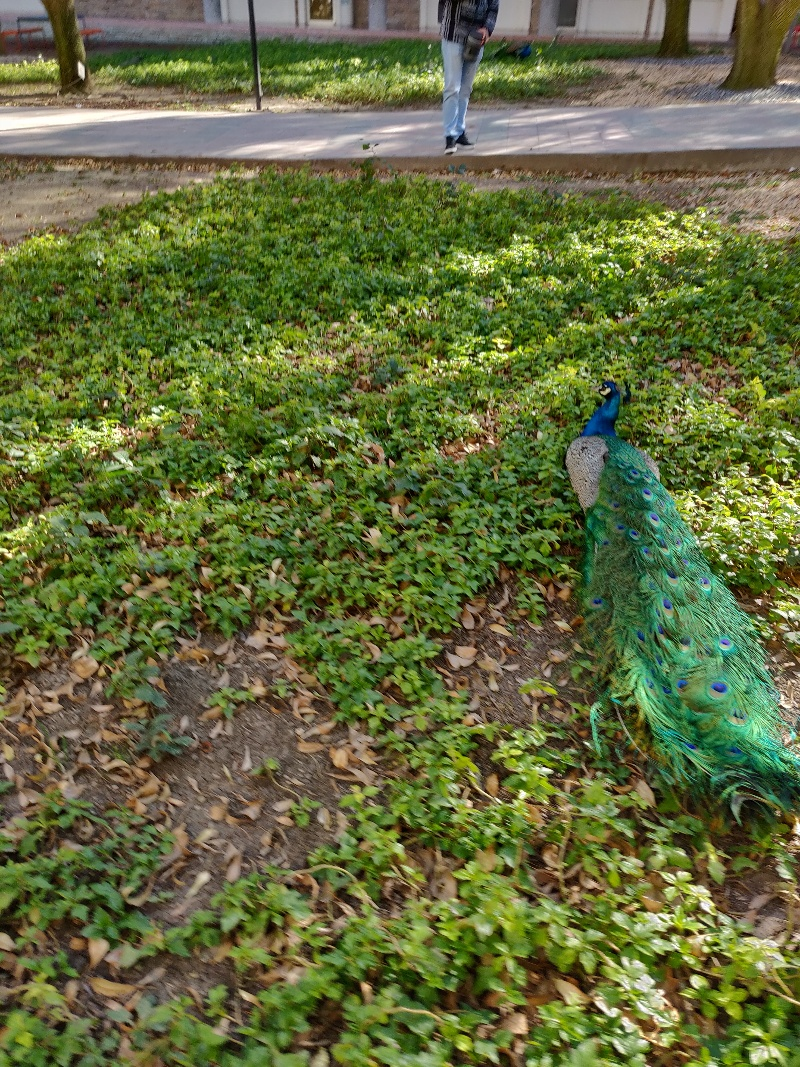pavoreal: (579, 376, 685, 617)
